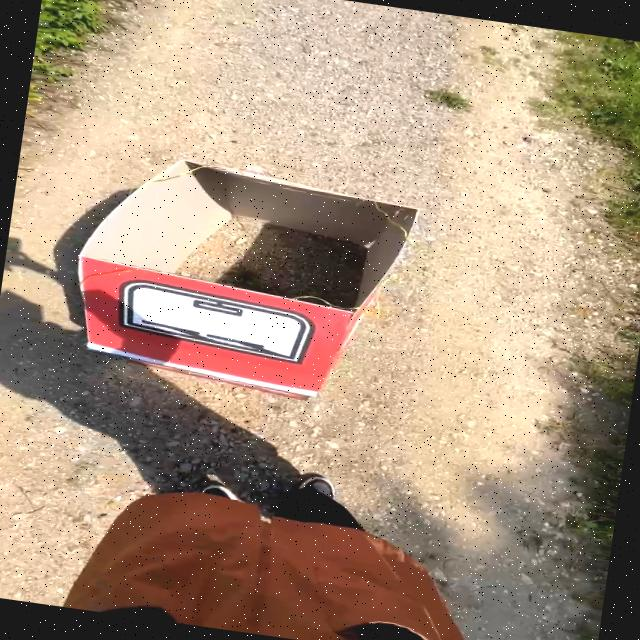red_car: (0, 90, 529, 483)
